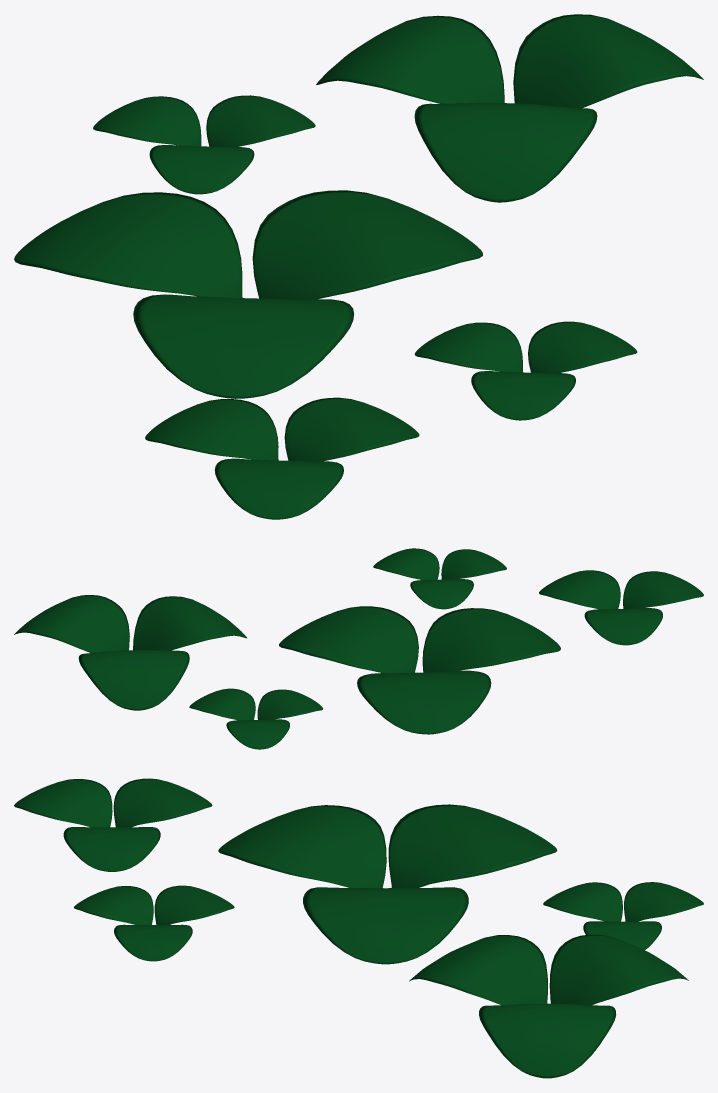
The model's file is plantspuppet2.fbx.
The picture shows the model from 3 angles, top to bottom: view 1: azimuth 30°, elevation 25°; view 2: azimuth 150°, elevation 25°; view 3: azimuth 270°, elevation 25°; orthographic projection. The views are drawn at different scales.
Visible parts, largest first — view 1: small round leaf.004; view 2: small round leaf.004; view 3: small round leaf.004.
Part boxes in pixels (x1,y1,x2,y2): small round leaf.004: [14, 14, 703, 519]; small round leaf.004: [14, 548, 703, 749]; small round leaf.004: [14, 778, 703, 1078].
Size of the model in its own units: 588 by 79.72 by 590.
